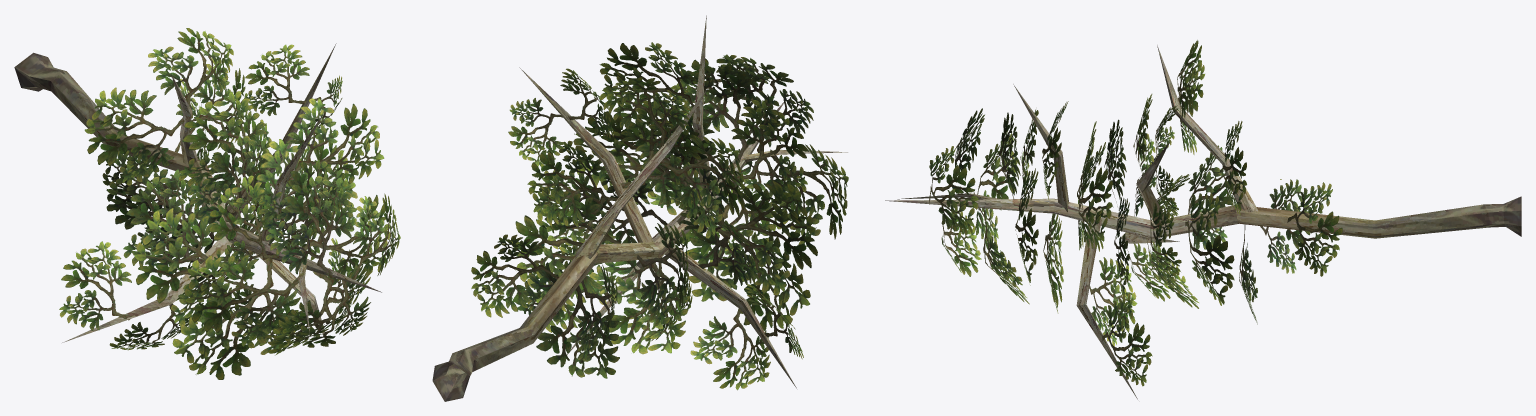
File: dayexiangsi.obj
3 renders of one model, left to right at view 1: azimuth 30°, elevation 25°; view 2: azimuth 150°, elevation 25°; view 3: azimuth 270°, elevation 25°, orthographic. The views are drawn at different scales.
Visible parts, largest first — view 1: dayexiangsi; view 2: dayexiangsi; view 3: dayexiangsi.
Boxes of the visible parts, bbox=[...] form: dayexiangsi: bbox=[14, 28, 400, 379]; dayexiangsi: bbox=[432, 15, 848, 401]; dayexiangsi: bbox=[885, 40, 1521, 399].
Size of the model in its own units: 198 by 207 by 371.
Materials: 2 (2 with a texture image).
